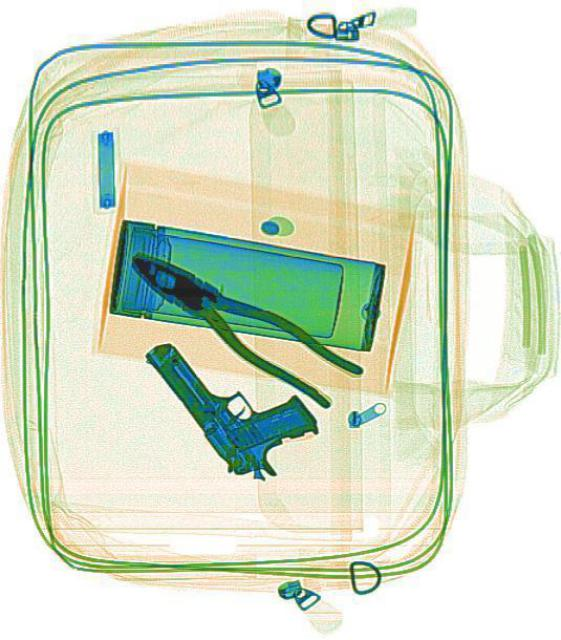Gun: (138, 288, 325, 497)
Pliers: (116, 228, 361, 416)
